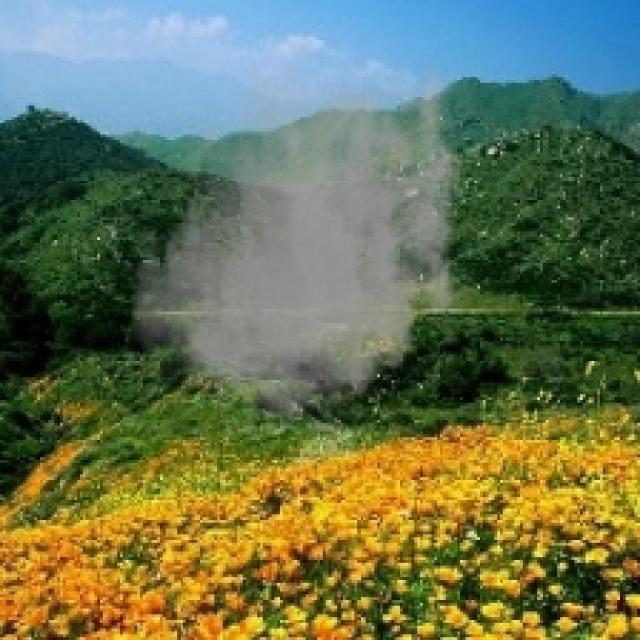smoke: (120, 51, 480, 443)
